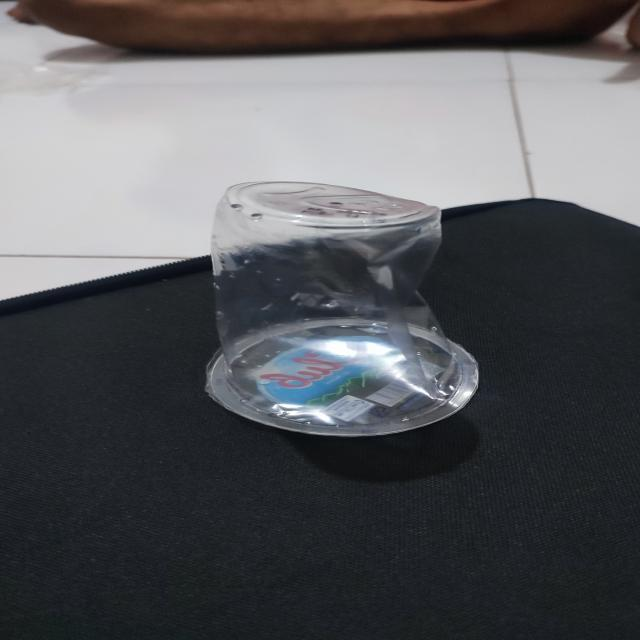air-gelas-rusak: (206, 163, 498, 446)
